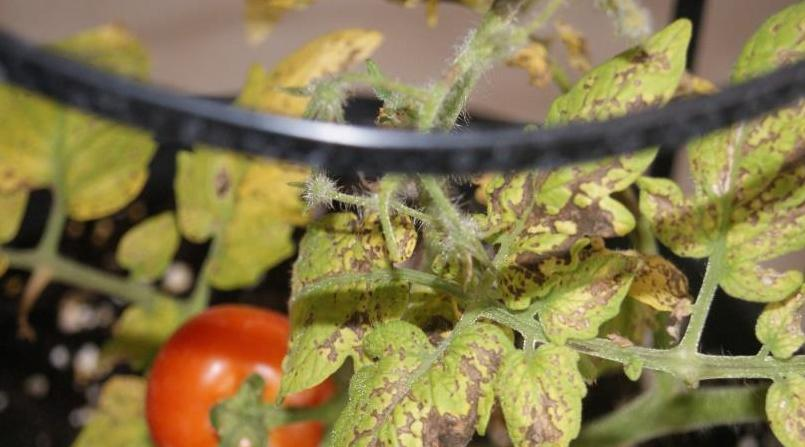Tomato leaf bacterial spot: (489, 3, 713, 271), (648, 0, 805, 323), (317, 296, 520, 447), (280, 203, 409, 397), (500, 335, 591, 447)
